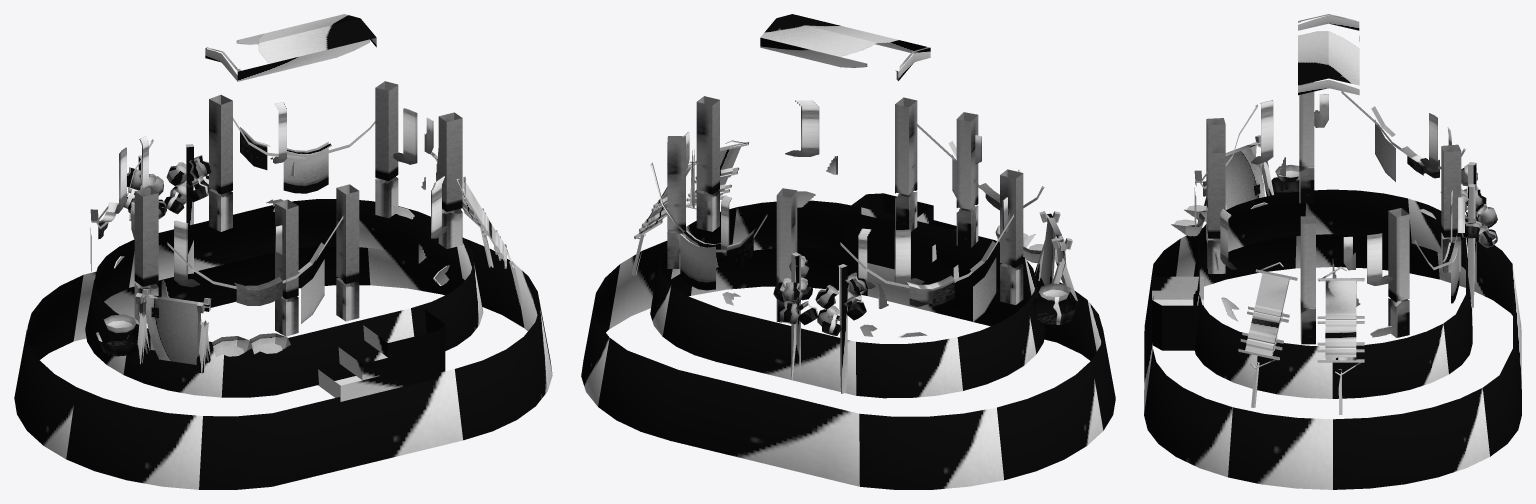
The model's file is house_03.dae.
The picture shows the model from 3 angles, left to right: view 1: azimuth 30°, elevation 25°; view 2: azimuth 150°, elevation 25°; view 3: azimuth 270°, elevation 25°; orthographic projection. The views are drawn at different scales.
Parts seen in each view (by area): view 1: house_03; view 2: house_03; view 3: house_03.
Part boxes in pixels (x1,y1,x2,y2): house_03: [14, 14, 552, 489]; house_03: [581, 14, 1115, 489]; house_03: [1144, 14, 1521, 489].
Bounding box in the file's own units: 18.26 × 13.08 × 12.78.
Materials: 1 (1 with a texture image).
